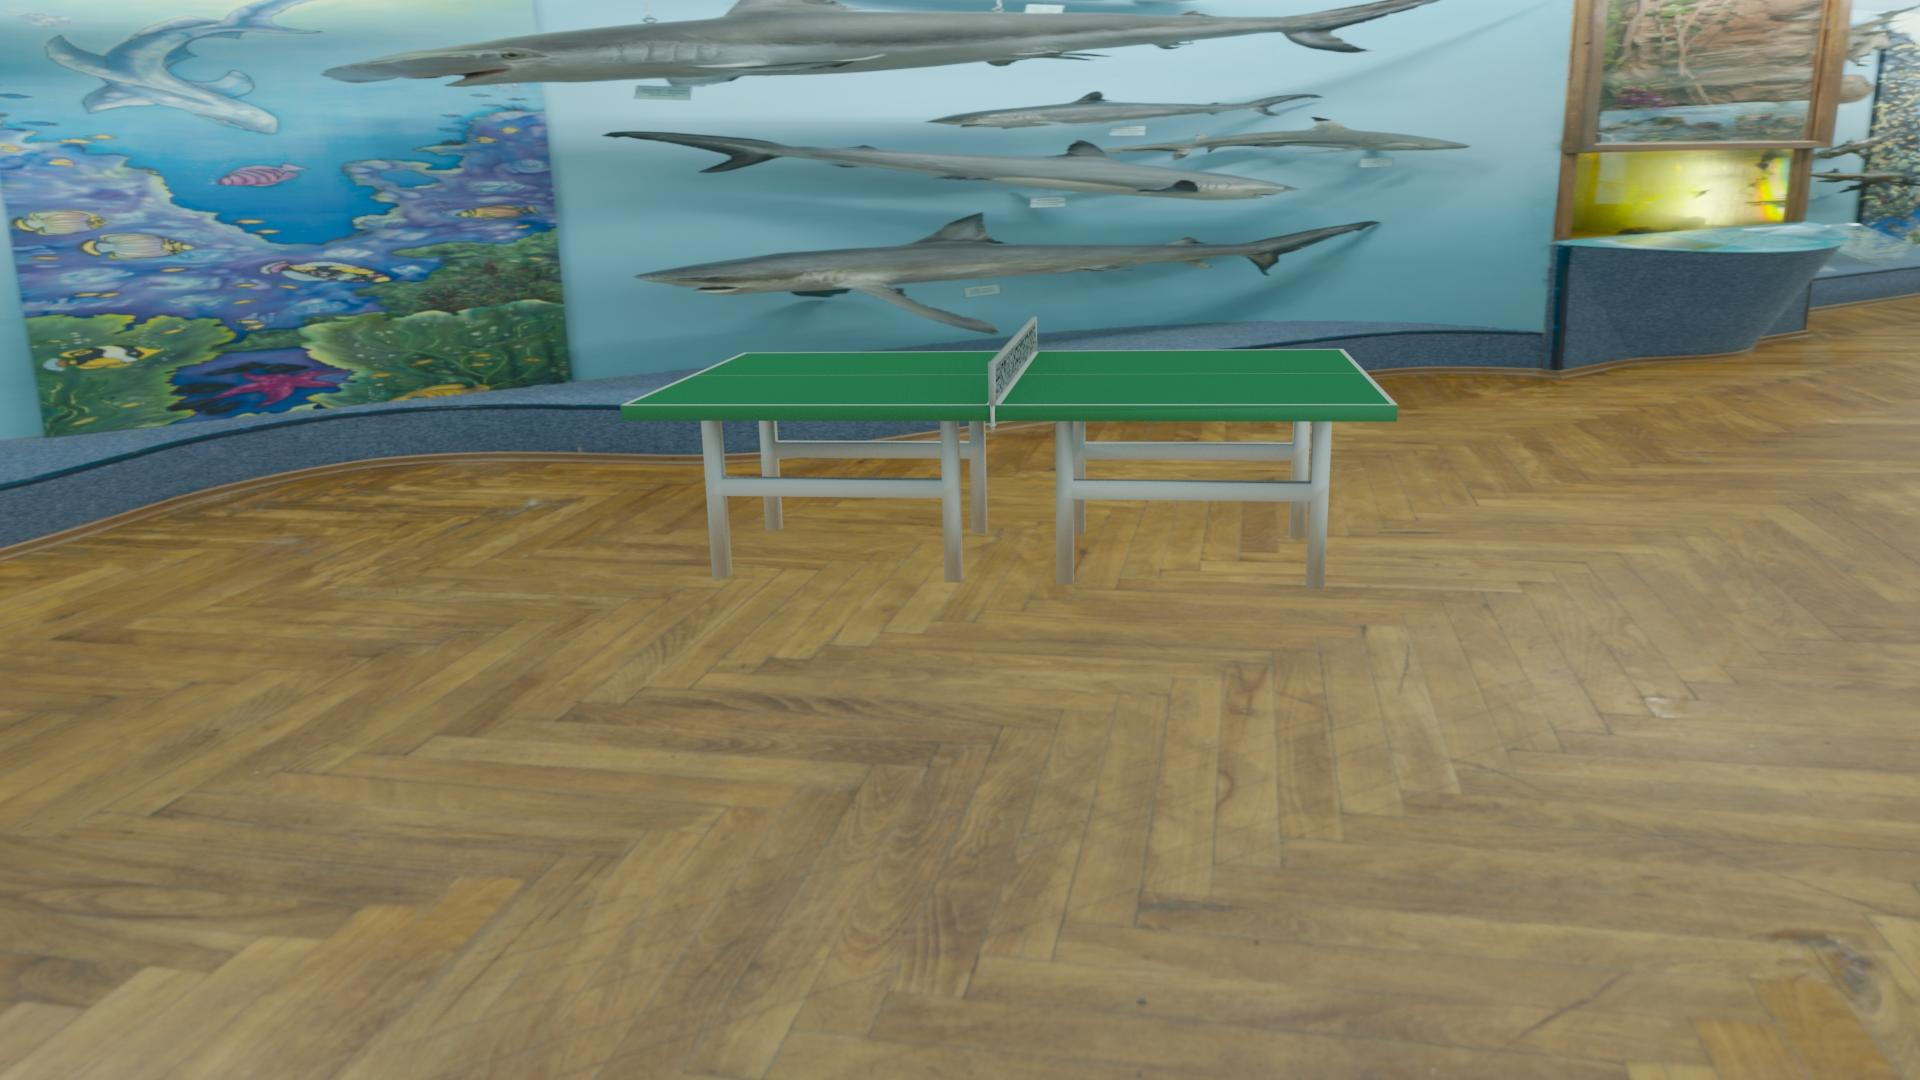table: (628, 349, 1391, 405)
